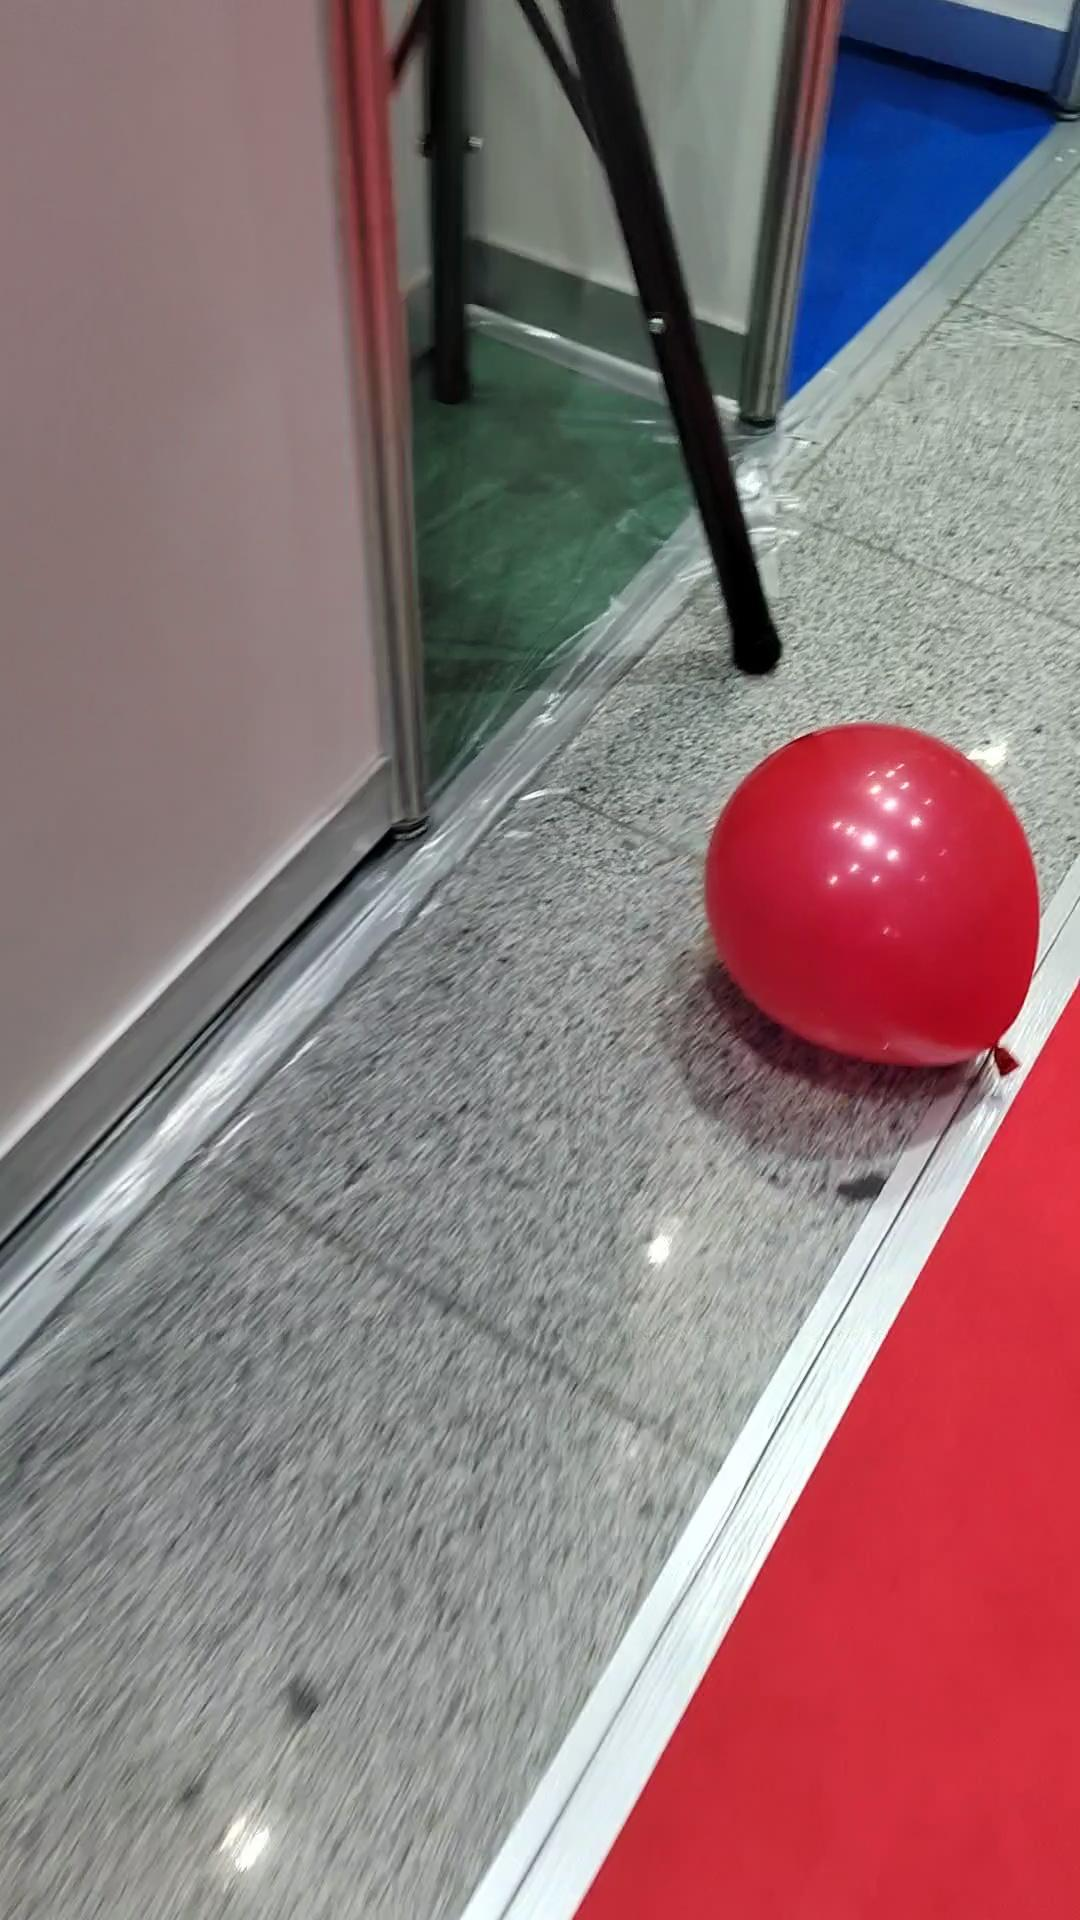red: (696, 717, 1040, 1077)
